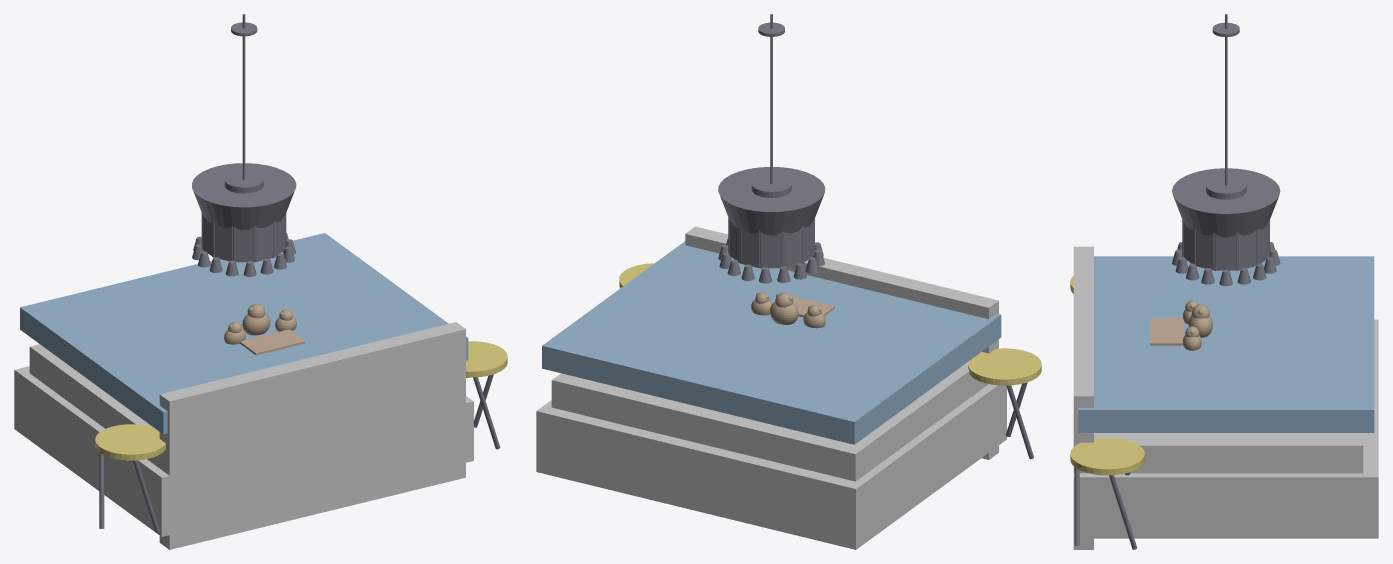
3 views of the same model, side by side, from view 1: azimuth 30°, elevation 25°; view 2: azimuth 150°, elevation 25°; view 3: azimuth 270°, elevation 25° (orthographic). The views are drawn at different scales.
Visible parts, largest first — view 1: headboard, bedspread, bed_frame, lamp_shade, mattress, nightstand_left_top, nightstand_right_top, pillow_5, lamp_rib_8, lamp_rib_7, lamp_rib_9, lamp_top (+1 smaller); view 2: bedspread, bed_frame, mattress, lamp_shade, headboard, nightstand_left_top, lamp_rib_4, lamp_top, lamp_rib_3, lamp_rib_5; view 3: bedspread, bed_frame, mattress, lamp_shade, headboard, nightstand_right_top, pillow_5, lamp_rib_0, lamp_rib_11, lamp_top, lamp_rib_1, lamp_rib_10 (+4 smaller).
Part boxes in pixels (box(x1,y1,x2,y2)): headboard: box(159, 322, 465, 549); bedspread: box(20, 233, 468, 434); bed_frame: box(14, 366, 473, 536); lamp_shade: box(192, 163, 296, 230); mattress: box(29, 344, 162, 469); nightstand_left_top: box(95, 424, 165, 460); nightstand_right_top: box(466, 341, 507, 377); pillow_5: box(240, 329, 305, 355); lamp_rib_8: box(232, 202, 256, 262); lamp_rib_7: box(212, 197, 234, 261); lamp_rib_9: box(254, 198, 275, 262); lamp_top: box(224, 171, 263, 193); bedspread: box(542, 241, 1001, 444); bed_frame: box(536, 384, 1006, 549); mattress: box(551, 361, 988, 481); lamp_shade: box(718, 167, 825, 235); headboard: box(685, 226, 998, 459); nightstand_left_top: box(968, 348, 1041, 385); lamp_rib_4: box(759, 207, 784, 268); lamp_top: box(751, 175, 791, 197); lamp_rib_3: box(739, 202, 761, 268); lamp_rib_5: box(781, 202, 803, 267); bedspread: box(1078, 256, 1374, 432); bed_frame: box(1073, 319, 1378, 538); mattress: box(1094, 433, 1363, 473); lamp_shade: box(1172, 168, 1280, 237); headboard: box(1073, 246, 1093, 549); nightstand_right_top: box(1070, 438, 1144, 475); pillow_5: box(1150, 318, 1183, 345); lamp_rib_0: box(1213, 209, 1238, 270); lamp_rib_11: box(1193, 203, 1215, 270); lamp_top: box(1206, 176, 1246, 199); lamp_rib_1: box(1236, 203, 1258, 270); lamp_rib_10: box(1182, 196, 1195, 264).
Size of the model in its own units: 2.84 by 3 by 1.82.
